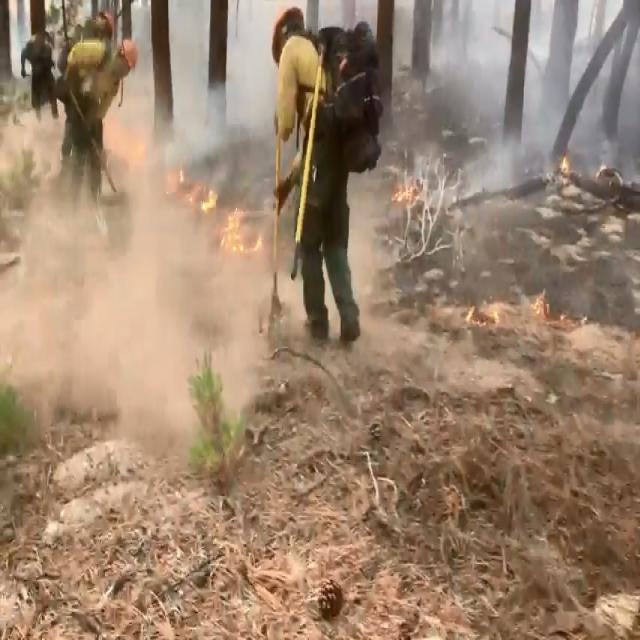Fire: (102, 100, 262, 262)
